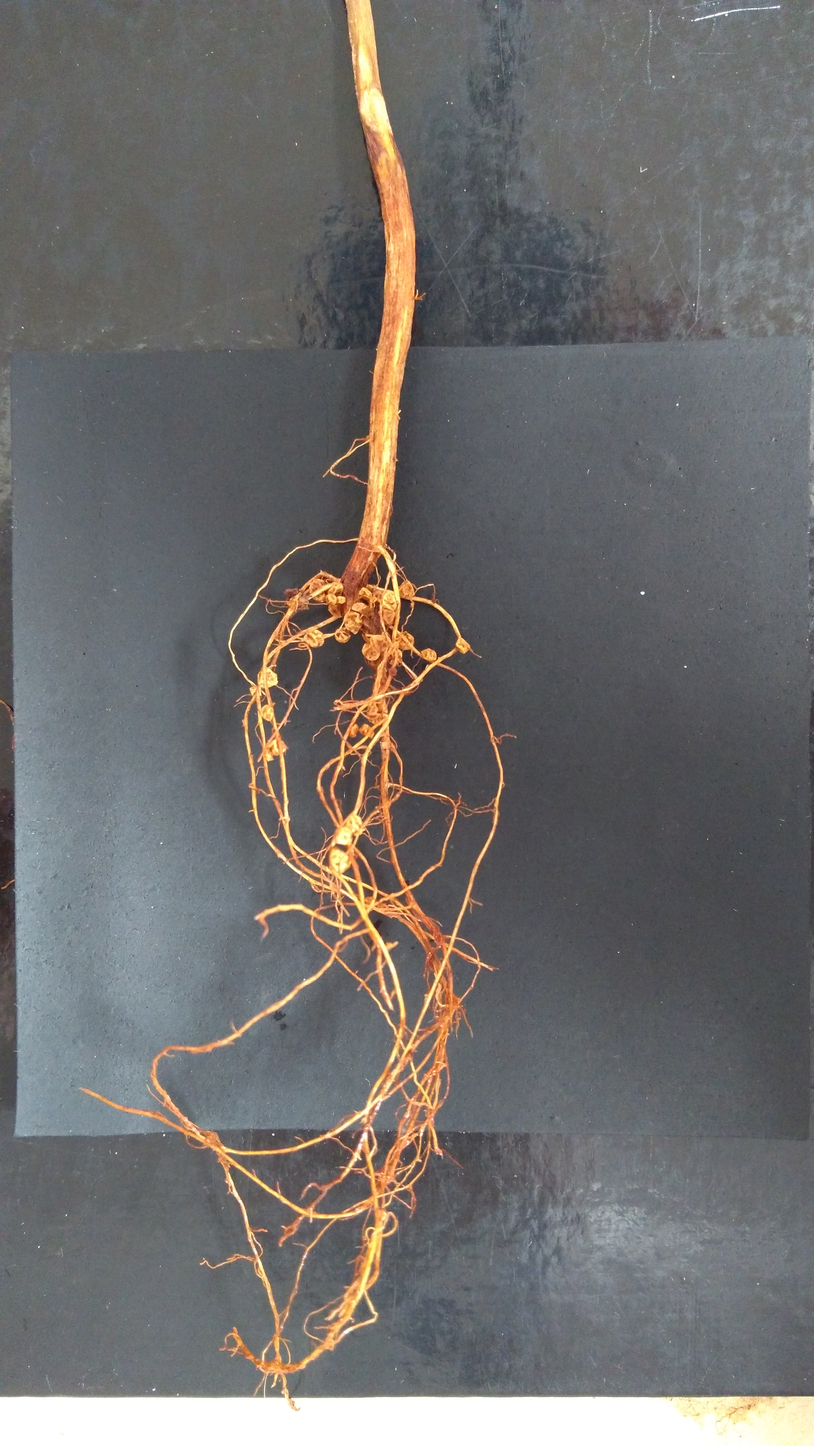nodule: (328, 846, 353, 875), (282, 588, 310, 613), (256, 665, 279, 688), (343, 611, 363, 635), (308, 578, 327, 603), (302, 628, 325, 648), (395, 630, 415, 652), (369, 634, 390, 654), (332, 827, 352, 848), (360, 642, 380, 662), (343, 814, 363, 834), (266, 738, 287, 757), (366, 702, 382, 725), (398, 579, 415, 599), (382, 591, 398, 612), (351, 602, 372, 618), (334, 627, 353, 644), (454, 637, 471, 655), (420, 647, 437, 663), (327, 603, 345, 618), (382, 608, 396, 627), (359, 723, 375, 739), (327, 583, 344, 597), (261, 704, 274, 722), (358, 587, 372, 602), (391, 648, 404, 663), (205, 1131, 218, 1144), (325, 593, 337, 606), (349, 724, 359, 739), (336, 595, 346, 605), (388, 667, 398, 676), (380, 741, 389, 750), (248, 686, 257, 695), (370, 596, 378, 603), (410, 602, 414, 608)
